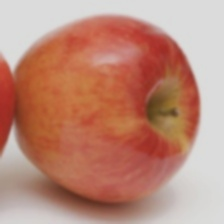apple: (46, 51, 220, 206)
